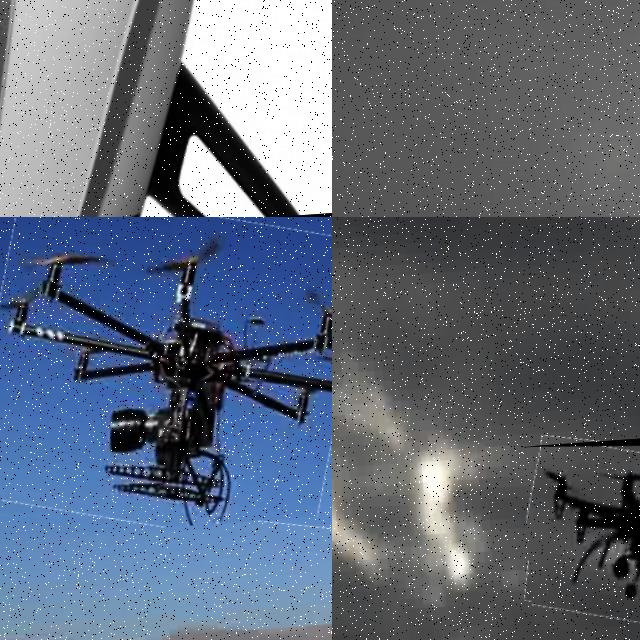0: (0, 217, 332, 538), (520, 429, 640, 632)
drone: (0, 0, 332, 217)
